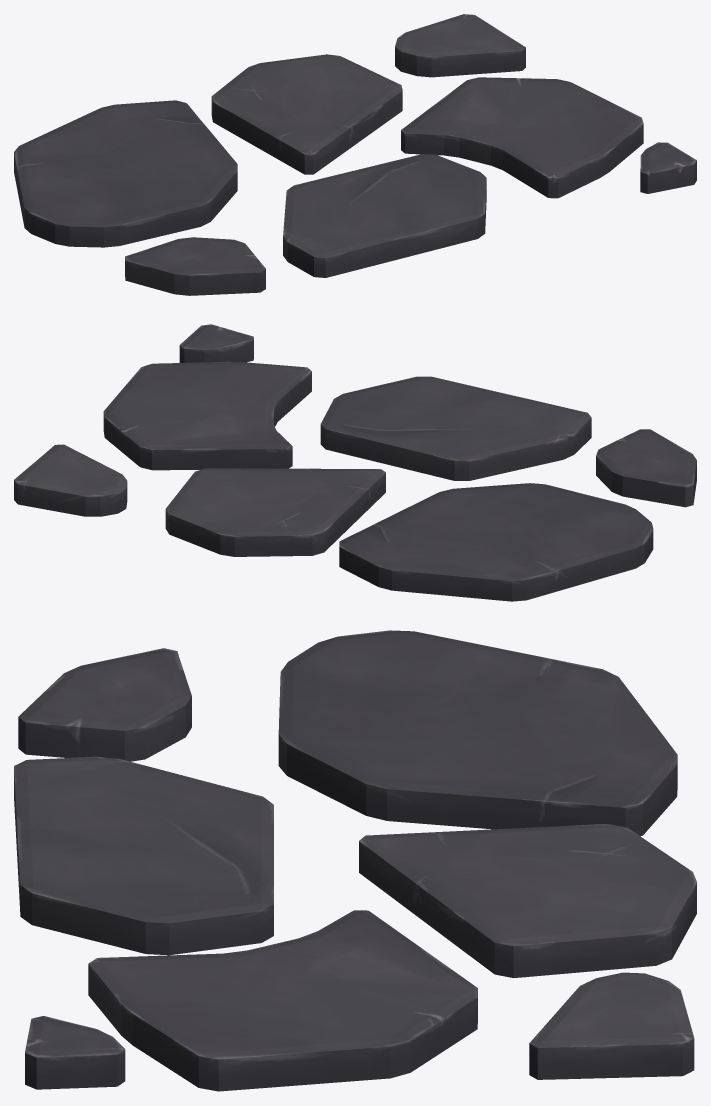
The model's file is path.fbx.
The picture shows the model from 3 angles, top to bottom: view 1: azimuth 30°, elevation 25°; view 2: azimuth 150°, elevation 25°; view 3: azimuth 270°, elevation 25°; orthographic projection. The views are drawn at different scales.
Parts seen in each view (by area): view 1: Cube.008; view 2: Cube.008; view 3: Cube.008.
Part boxes in pixels (bbox=[...]): Cube.008: bbox=[14, 14, 696, 295]; Cube.008: bbox=[14, 324, 696, 601]; Cube.008: bbox=[14, 630, 696, 1091].
Size of the model in its own units: 780 by 30 by 524.
